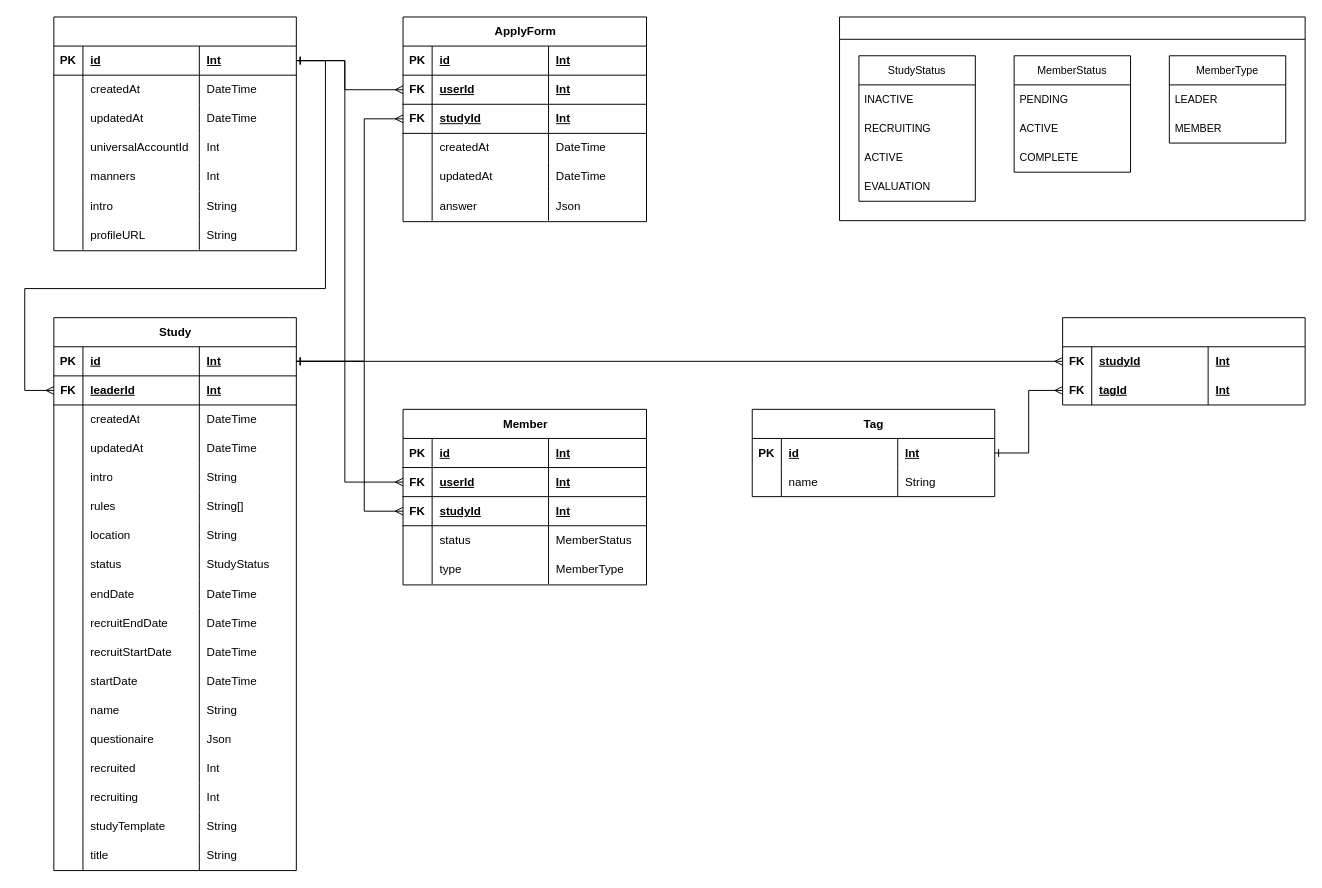
The diagram is 1322 pixels wide and 888 high, and some of its shapes have lost their labels. Here are the shapes that lost their labels. From the top down, the box of each, then its label:
(53, 16, 296, 251): User
(839, 16, 1305, 221): Enum
(1062, 317, 1305, 405): StudyToTag
